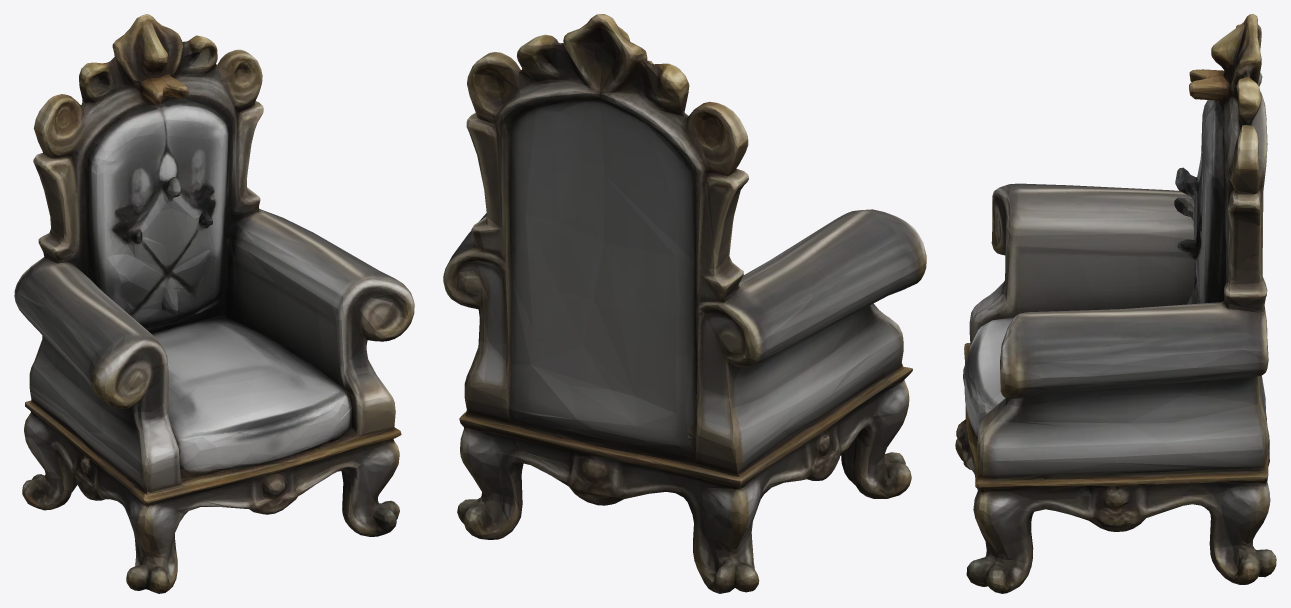
Rendered from throne.glb.
3 renders of one model, left to right at view 1: azimuth 30°, elevation 25°; view 2: azimuth 150°, elevation 25°; view 3: azimuth 270°, elevation 25°, orthographic. The views are drawn at different scales.
Visible parts, largest first — view 1: world; view 2: world; view 3: world.
Part boxes in pixels (box(x1,y1,x2,y2)): world: box(14, 14, 414, 593); world: box(443, 14, 926, 593); world: box(955, 14, 1276, 593).
Bounding box in the file's own units: 0.7315 × 0.9997 × 0.5716.
1 material, 1 textured.
